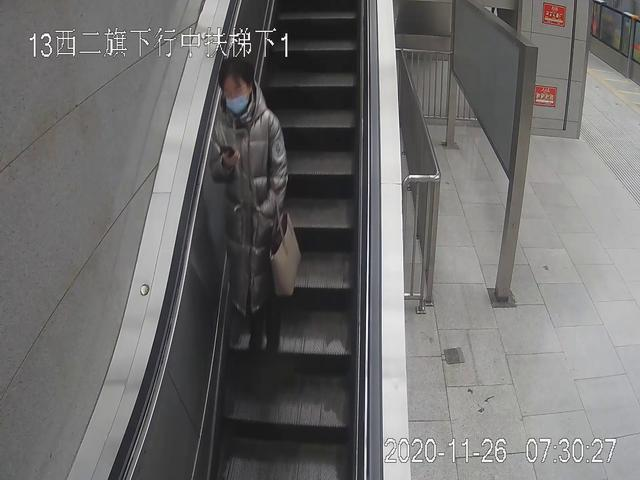person: (212, 57, 290, 352)
